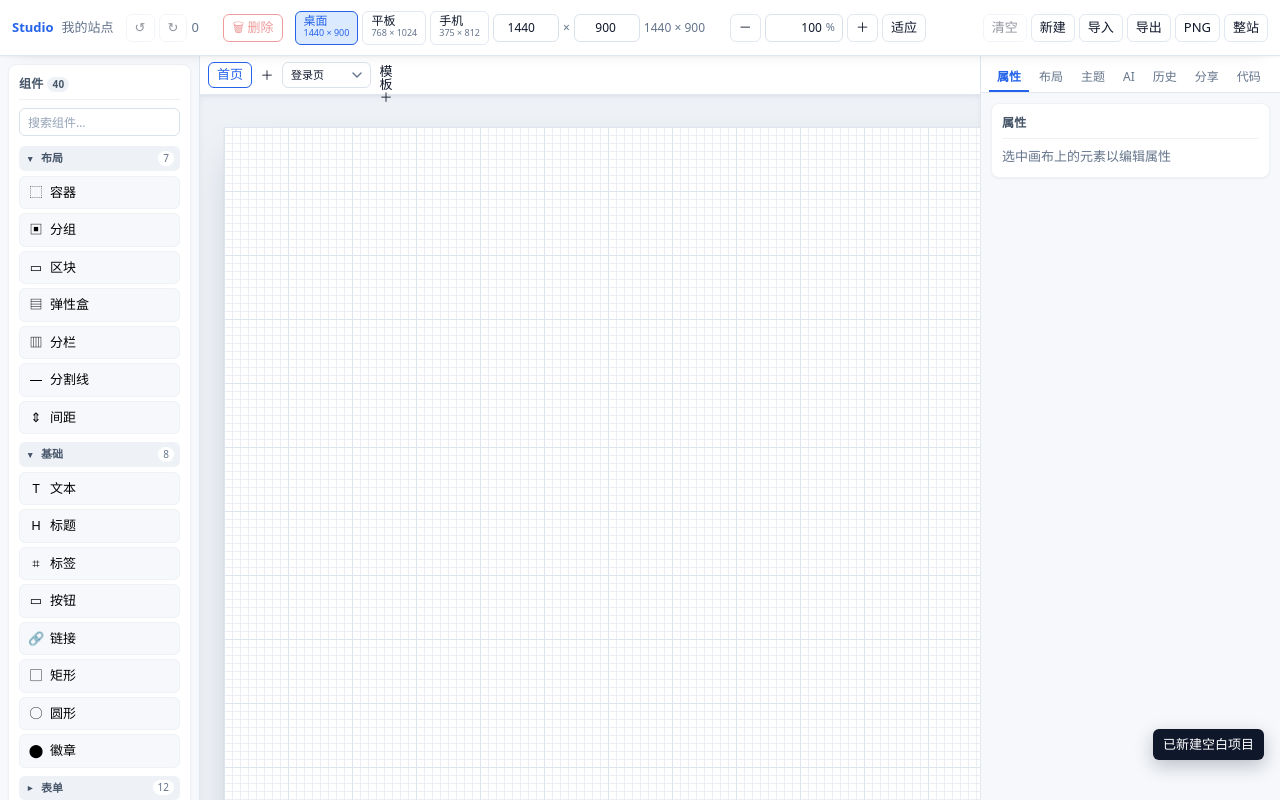
Test case: M1 编辑器：画布交互与面板 › 组件分类默认收起表单/媒体，点标题展开，搜索时自动全部展开
Click the button "▸ 表单 12" at (100, 788), box [19,776,180,799]
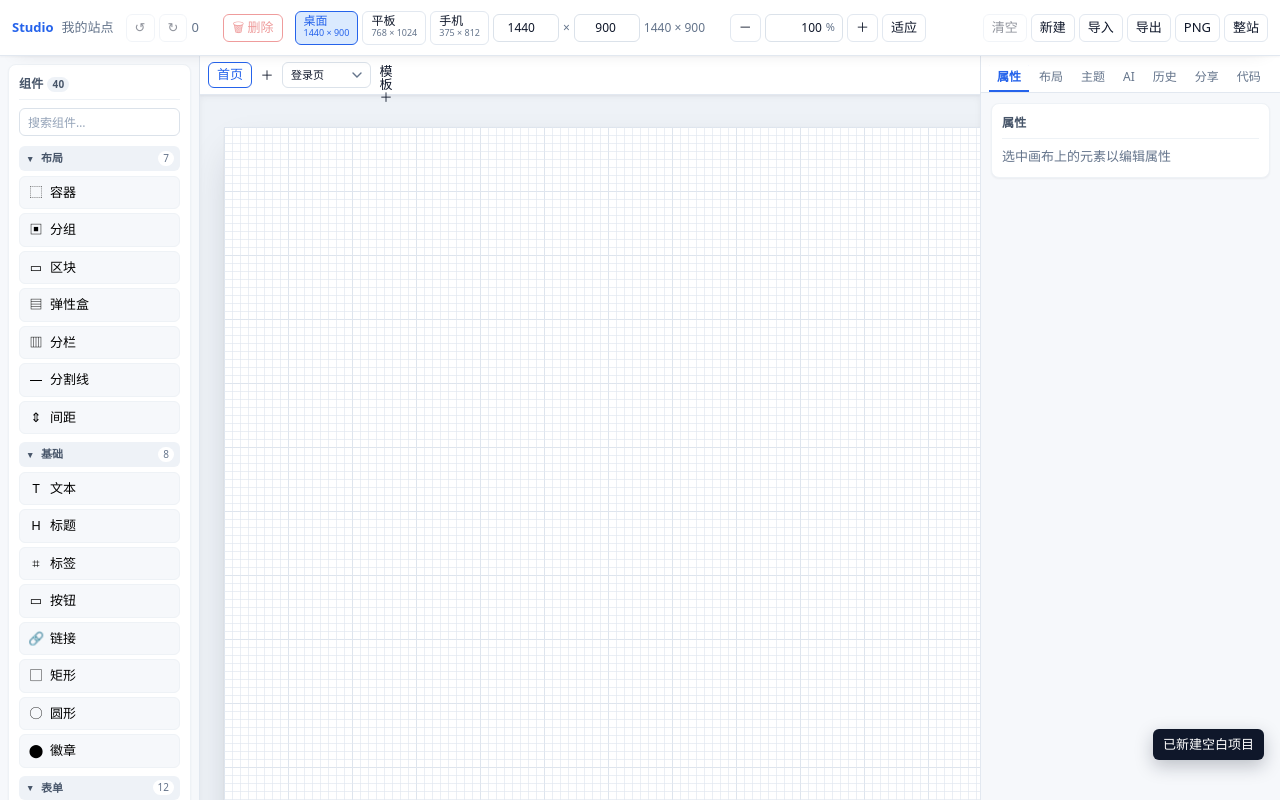
Type "按钮" into the search field with placeholder "搜索组件…" at (100, 122), box [19,108,180,136]
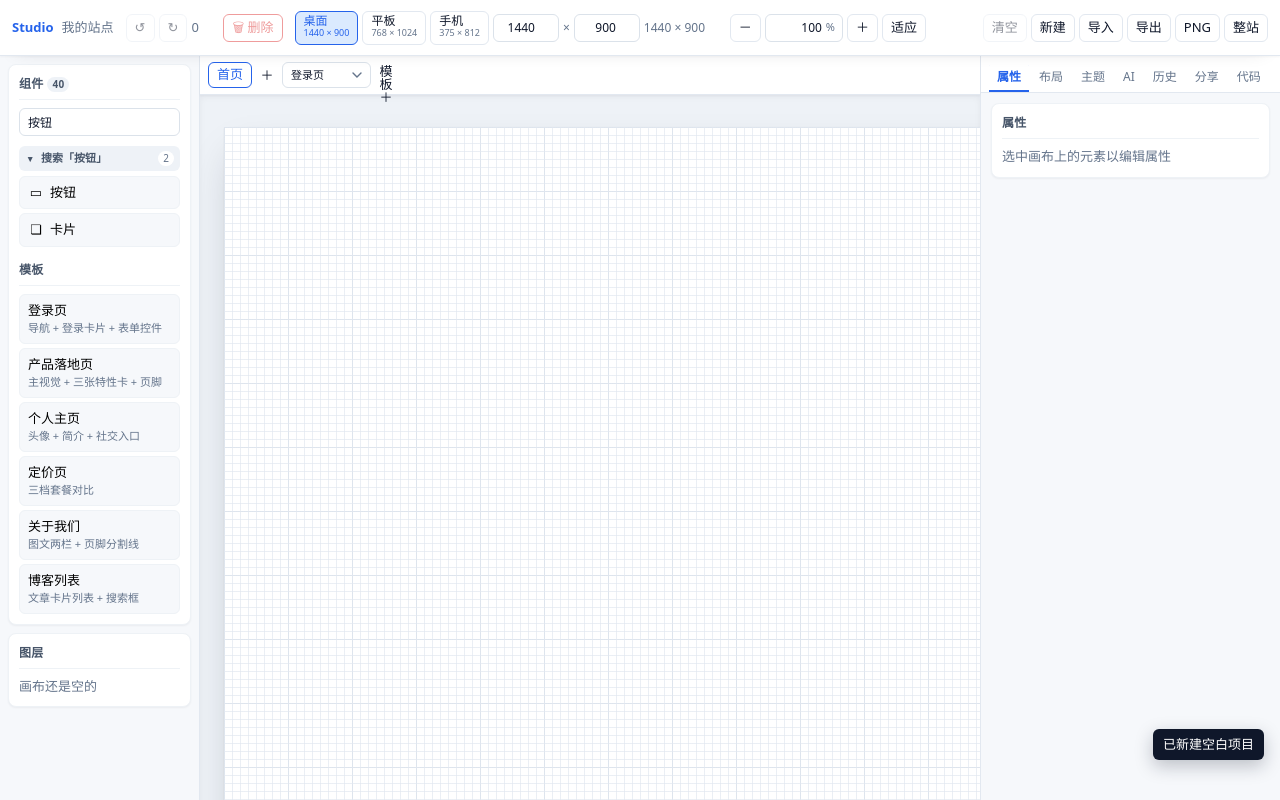
Now the element showing "▭ 按钮 ❏ 卡片" is shown, box [19,176,180,246]
